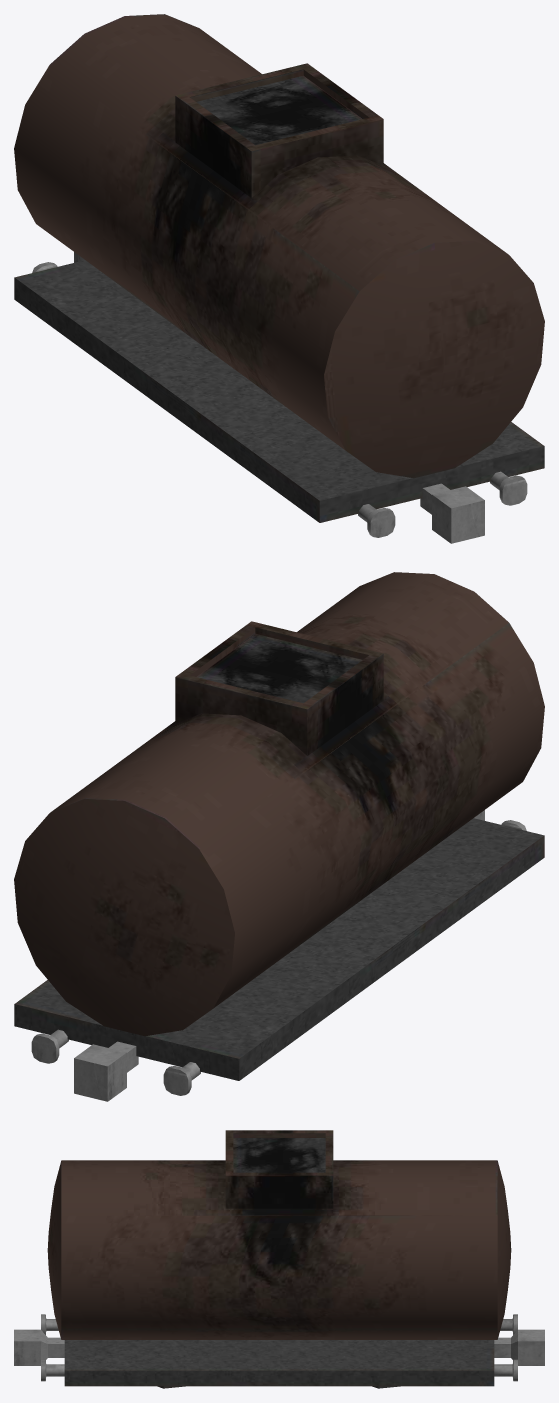
The model's file is wagon_04.gltf.
3 renders of one model, top to bottom at view 1: azimuth 30°, elevation 25°; view 2: azimuth 150°, elevation 25°; view 3: azimuth 270°, elevation 25°, orthographic. The views are drawn at different scales.
Visible parts, largest first — view 1: Bufer.017_Misc_0; view 2: Bufer.017_Misc_0; view 3: Bufer.017_Misc_0.
Part boxes in pixels (box(x1,y1,x2,y2)): Bufer.017_Misc_0: box(14, 14, 544, 543); Bufer.017_Misc_0: box(14, 572, 544, 1101); Bufer.017_Misc_0: box(14, 1130, 544, 1388).
Size of the model in its own units: 3.79 by 5.04 by 11.03.
